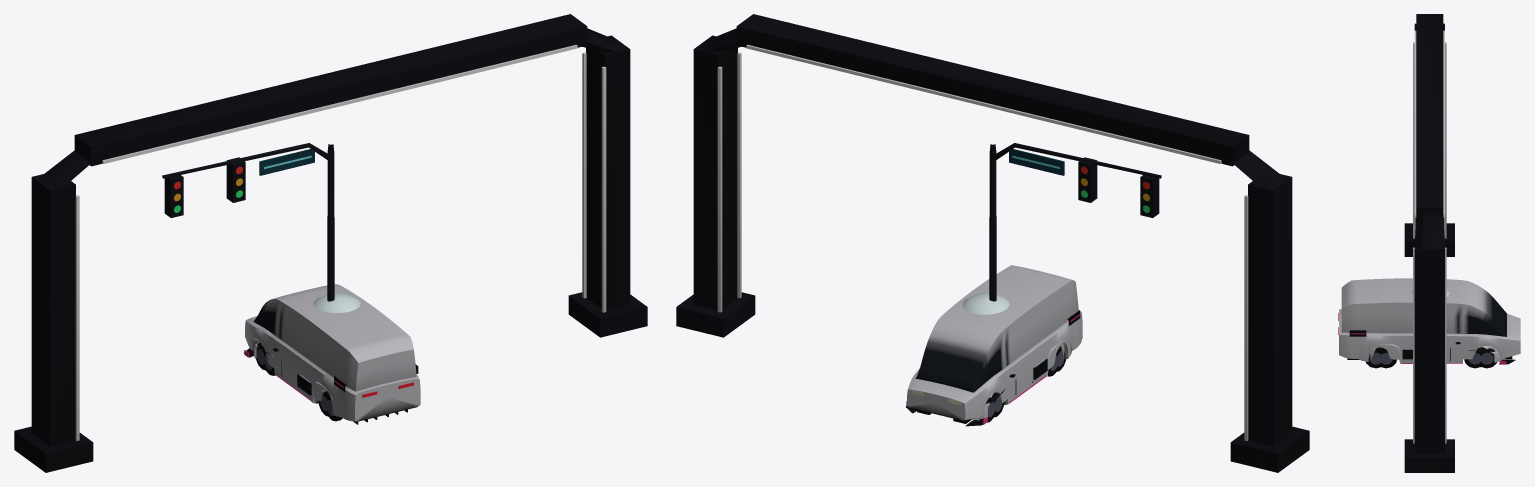
File: mothlight.glb
3 renders of one model, left to right at view 1: azimuth 30°, elevation 25°; view 2: azimuth 150°, elevation 25°; view 3: azimuth 270°, elevation 25°, orthographic. The views are drawn at different scales.
Parts seen in each view (by area): view 1: gate, traffic_van, signal, car_body, ped; view 2: gate, traffic_van, signal, car_body, ped; view 3: gate, traffic_van, car_body, traffic_car.
Boxes of the visible parts, box(x1,y1,x2,y2) form: gate: box(14, 14, 647, 472); traffic_van: box(245, 284, 420, 421); signal: box(162, 143, 334, 301); car_body: box(244, 344, 418, 424); ped: box(313, 293, 360, 312); gate: box(676, 14, 1309, 472); traffic_van: box(907, 265, 1082, 422); signal: box(989, 143, 1161, 301); car_body: box(906, 310, 1080, 426); ped: box(962, 293, 1009, 314); gate: box(1404, 14, 1454, 472); traffic_van: box(1338, 278, 1520, 368); car_body: box(1347, 330, 1515, 364); traffic_car: box(1369, 345, 1497, 368).
Bounding box in the file's own units: 16.5 × 8.42 × 5.43.
